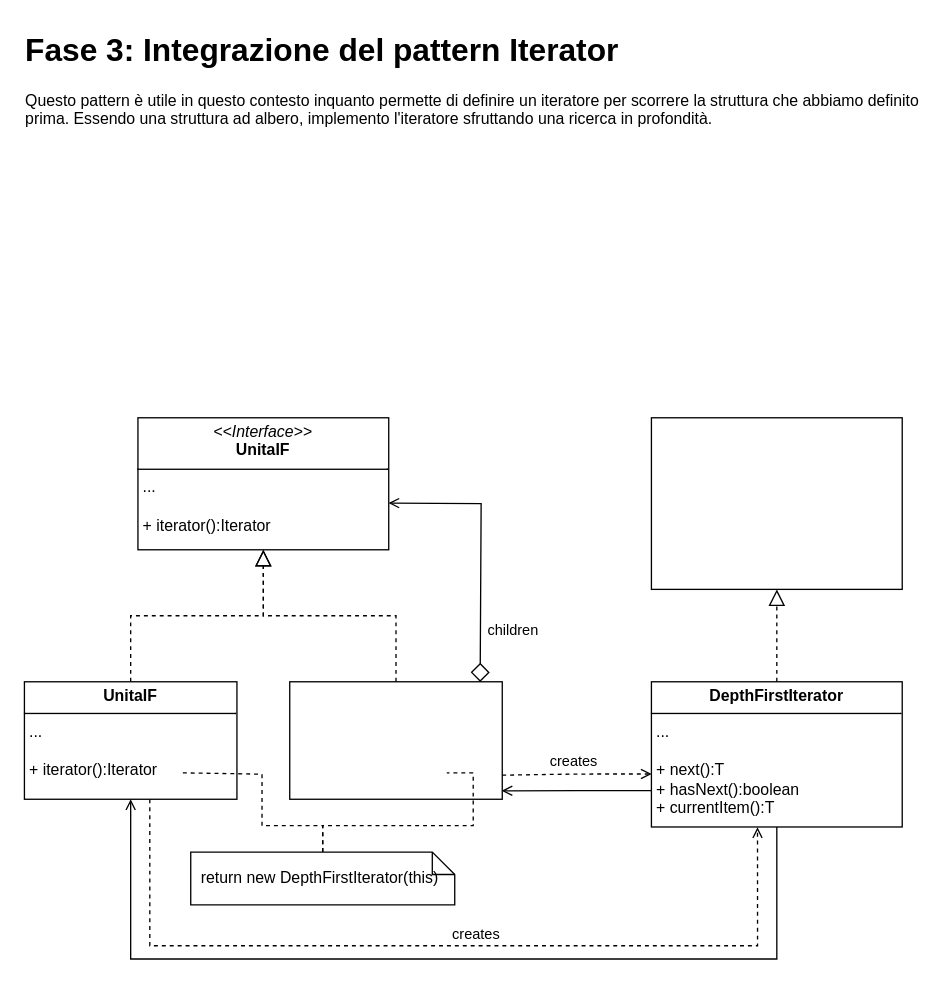
Image size: 942x993. Some labels were removed from this diagram. Here are the shapes that lost their labels. From the top down, the box of each, then its label:
(650, 416, 902, 589): <<Interface>> Iterator ... + next():T + hasNext():boolean + currentItem():T
(288, 680, 502, 799): OrganoGestione ... + iterator():Iterator
